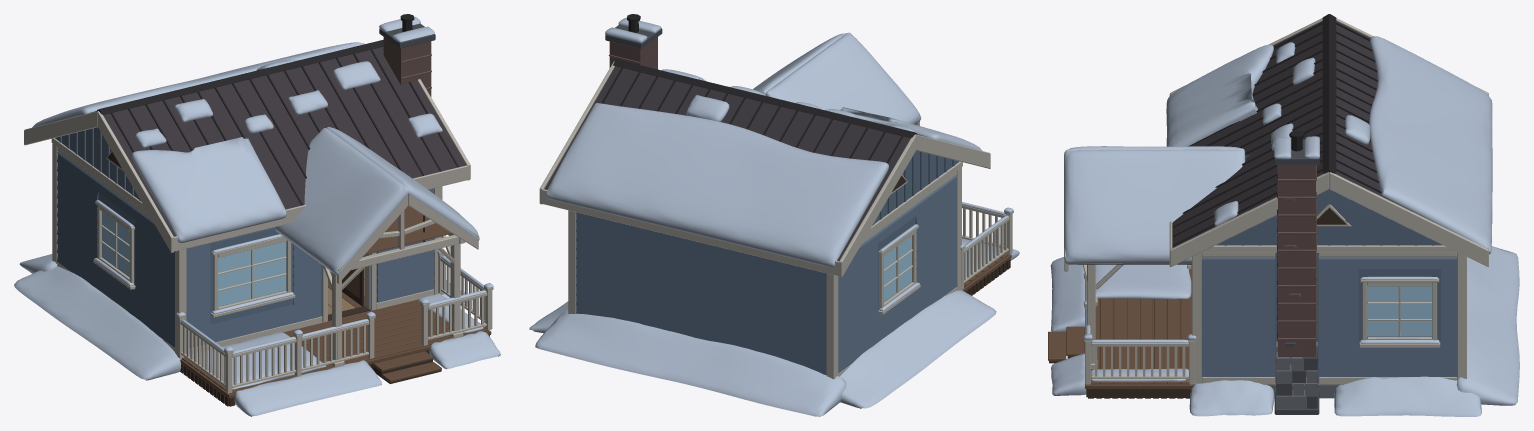
Rendered from cabin_hd.glb.
3 views of the same model, side by side, from view 1: azimuth 30°, elevation 25°; view 2: azimuth 150°, elevation 25°; view 3: azimuth 270°, elevation 25° (orthographic). The views are drawn at different scales.
Parts seen in each view (by area): view 1: Roof, Porch, WallFront, WallRight, Floor, WindowsFront, Chimney, WindowsRight; view 2: Roof, WallBack, Floor, WallRight, Porch, Chimney, WindowsRight; view 3: Roof, WallLeft, Porch, Floor, Chimney, WindowsLeft.
Boxes of the visible parts, x1,y1,x2,y2 form: Roof: (24,39,479,367); Porch: (176,248,500,416); WallFront: (179,186,441,353); WallRight: (52,144,180,355); Floor: (14,254,472,380); WindowsFront: (218,241,286,306); Chimney: (379,14,435,96); WindowsRight: (102,211,129,276); Roof: (539,32,990,277); WallBack: (568,210,834,379); Floor: (529,290,996,416); WallRight: (833,167,961,378); Porch: (960,202,1019,295); Chimney: (605,14,662,69); WindowsRight: (884,236,911,301); Roof: (1064,14,1492,368); WallLeft: (1192,252,1466,384); Porch: (1048,257,1196,398); Floor: (1189,246,1519,416); Chimney: (1274,130,1319,414); WindowsLeft: (1367,286,1432,336).
Size of what is drawn, in the model's own units: 7.73 by 5.58 by 8.72.
